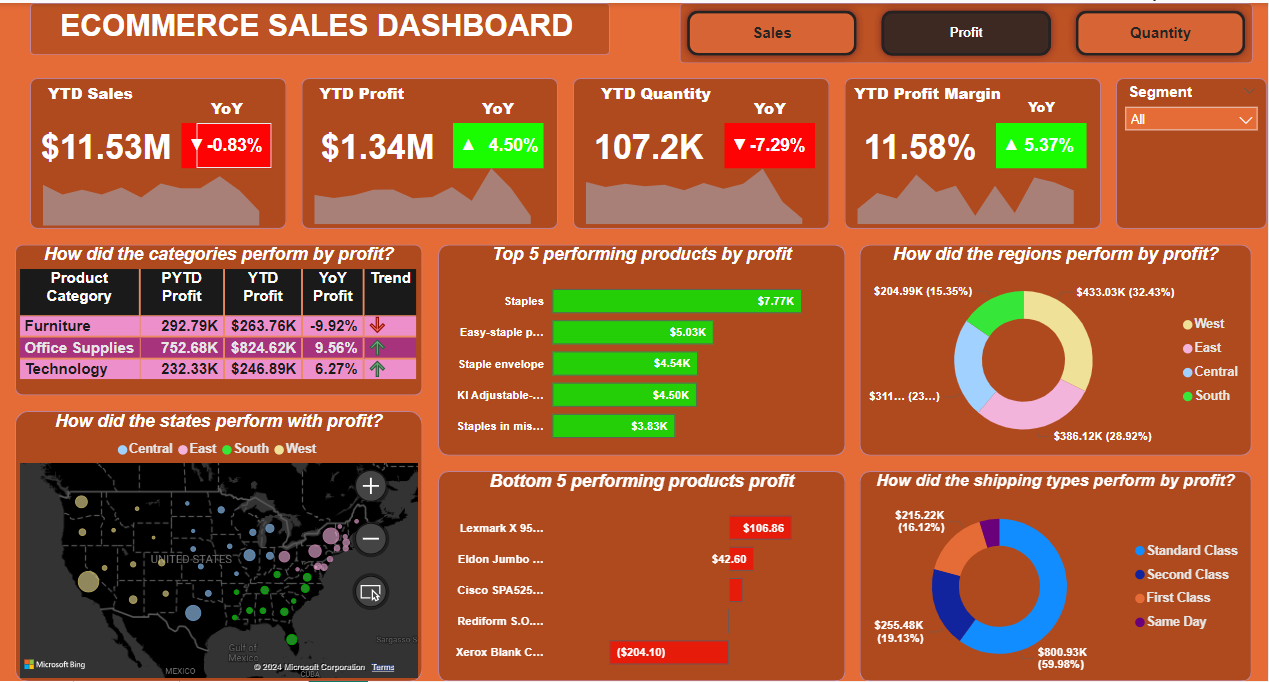

Layout of this report page (visuals, bound fields, positions):
{"tool":"powerbi","page":{"name":"Profit","canvas":[1345,720],"ordinal":1},"visuals":[{"type":"group","id":"g1","title":"Group 2","box":[320,80,272,160],"z":0},{"type":"shape","box":[32,0,615,55],"z":1000},{"type":"textbox","box":[32,0,608,48],"z":2000},{"type":"shape","box":[320,80,272,160],"z":2000,"group":"g4"},{"type":"shape","box":[608,80,272,160],"z":2000,"group":"g2"},{"type":"shape","box":[896,80,272,160],"z":2000,"group":"g3"},{"type":"shape","box":[32,80,272,160],"z":3000},{"type":"areaChart","fields":{"Category":["Date.Month"],"Y":["Sum(ecommerce_data.profit_per_order)"]},"box":[320,160,256,80],"z":4000,"group":"g4"},{"type":"areaChart","fields":{"Category":["Date.Month"],"Y":["Sum(ecommerce_data.order_quantity)"]},"box":[608,160,256,80],"z":4000,"group":"g2"},{"type":"areaChart","fields":{"Category":["Date.Month"],"Y":["ecommerce_data.Gross Profit Margin"]},"box":[896,160,256,80],"z":4000,"group":"g3"},{"type":"shape","box":[16,256,432,160],"z":4000},{"type":"card","fields":{"Values":["ecommerce_data.YTD Sales"]},"box":[16,128,192,48],"z":5000},{"type":"shape","box":[480,128,96,48],"z":5000,"group":"g4"},{"type":"shape","box":[768,128,96,48],"z":5000,"group":"g2"},{"type":"shape","box":[1056,128,96,48],"z":5000,"group":"g3"},{"type":"card","fields":{"Values":["ecommerce_data.YoY Profit"]},"box":[512,128,64,48],"z":6000,"group":"g4"},{"type":"card","fields":{"Values":["ecommerce_data.YoY Qty"]},"box":[784,128,80,48],"z":6000,"group":"g2"},{"type":"card","fields":{"Values":["ecommerce_data.YoY Gross Profit Margin"]},"box":[1072,128,80,48],"z":6000,"group":"g3"},{"type":"areaChart","fields":{"Category":["Date.Month"],"Y":["Sum(ecommerce_data.sales_per_order)"]},"box":[32,160,256,80],"z":6000},{"type":"shape","box":[192,128,96,48],"z":7000,"group":"g5"},{"type":"card","fields":{"Values":["ecommerce_data.YTD Profit"]},"box":[304,128,192,48],"z":7000},{"type":"card","fields":{"Values":["ecommerce_data.Profit Icon"]},"box":[480,128,32,48],"z":7000,"group":"g4"},{"type":"card","fields":{"Values":["ecommerce_data.Qty Icon"]},"box":[768,128,32,48],"z":7000,"group":"g2"},{"type":"card","fields":{"Values":["ecommerce_data.Gross Profit Margin Icon"]},"box":[1056,128,32,48],"z":7000,"group":"g3"},{"type":"textbox","box":[320,80,128,32],"z":8000,"group":"g4"},{"type":"group","id":"g2","title":"Group 1","box":[608,80,272,160],"z":8000},{"type":"textbox","box":[624,80,144,32],"z":8000,"group":"g2"},{"type":"textbox","box":[896,80,176,32],"z":8000,"group":"g3"},{"type":"card","fields":{"Values":["ecommerce_data.YoY Sales"]},"box":[208,128,80,48],"z":8000,"group":"g5"},{"type":"group","id":"g3","title":"Group 1","box":[896,80,272,160],"z":9000},{"type":"card","fields":{"Values":["ecommerce_data.Sales Icon"]},"box":[192,128,32,48],"z":9000,"group":"g5"},{"type":"textbox","box":[32,80,128,32],"z":10000,"group":"g5"},{"type":"group","id":"g4","title":"Group 1","box":[320,80,272,160],"z":10000,"group":"g1"},{"type":"pivotTable","title":"How did the categories perform by profit?","fields":{"Rows":["ecommerce_data.category_name"],"Values":["ecommerce_data.PYTD Profit","ecommerce_data.YTD Profit","ecommerce_data.YoY Profit","ecommerce_data.Profit Icon"]},"box":[16,256,432,160],"z":10000},{"type":"group","id":"g5","title":"Group 3","box":[32,80,256,96],"z":11000},{"type":"group","id":"g6","title":"Group 4","box":[896,96,272,80],"z":12000},{"type":"group","id":"g7","title":"Group 5","box":[608,96,256,80],"z":13000},{"type":"card","fields":{"Values":["ecommerce_data.YTD Quantity"]},"box":[608,128,160,48],"z":13000,"group":"g7"},{"type":"shape","box":[16,432,432,288],"z":14000},{"type":"card","fields":{"Values":["ecommerce_data.YTD Gross Profit Margin"]},"box":[896,128,160,48],"z":15000,"group":"g6"},{"type":"map","title":"How did the states perform with profit?","fields":{"Y":["us_state_long_lat_codes.latitude"],"X":["us_state_long_lat_codes.longitude"],"Size":["ecommerce_data.YTD Profit"],"Series":["ecommerce_data.customer_region"]},"box":[16,432,432,288],"z":15000},{"type":"shape","box":[464,496,432,224],"z":16000},{"type":"textbox","box":[496,96,64,32],"z":16002,"group":"g1"},{"type":"textbox","box":[192,96,96,32],"z":17000,"group":"g5"},{"type":"shape","box":[464,256,432,224],"z":17000},{"type":"textbox","box":[768,96,96,32],"z":17002,"group":"g7"},{"type":"textbox","box":[1040,96,128,48],"z":17003,"group":"g6"},{"type":"barChart","title":"Top 5 performing products by profit","fields":{"Category":["ecommerce_data.product_name"],"Y":["ecommerce_data.YTD Profit"]},"box":[464,256,432,224],"z":18000},{"type":"barChart","title":"Bottom 5 performing products profit","fields":{"Category":["ecommerce_data.product_name"],"Y":["ecommerce_data.YTD Profit"]},"box":[464,496,432,224],"z":19000},{"type":"shape","box":[912,256,416,224],"z":20000},{"type":"shape","box":[912,496,416,224],"z":21000},{"type":"donutChart","title":"How did the regions perform by profit?","fields":{"Category":["ecommerce_data.customer_region"],"Y":["ecommerce_data.YTD Profit"]},"box":[912,256,416,224],"z":22000},{"type":"donutChart","title":"How did the shipping types perform by profit?","fields":{"Category":["ecommerce_data.shipping_type"],"Y":["ecommerce_data.YTD Profit"]},"box":[912,496,416,224],"z":23000},{"type":"shape","box":[1184,80,160,160],"z":24000},{"type":"slicer","fields":{"Values":["ecommerce_data.customer_segment"]},"box":[1184,80,160,160],"z":25000},{"type":"shape","box":[720,0,608,64],"z":26000},{"type":"pageNavigator","box":[720,0,608,64],"z":27000}]}

Visuals, with their boxes in screenshot pixels (x1, y1, x2, y2), scaled from the page's 1345x720 canvas onto the 1269x682 screenshot:
"Group 2" group: rect(302, 76, 559, 227)
shape: rect(30, 0, 610, 52)
textbox: rect(30, 0, 604, 45)
shape: rect(302, 76, 559, 227)
shape: rect(574, 76, 830, 227)
shape: rect(845, 76, 1102, 227)
shape: rect(30, 76, 287, 227)
areaChart - Date.Month x Sum(ecommerce_data.profit_per_order): rect(302, 152, 543, 227)
areaChart - Date.Month x Sum(ecommerce_data.order_quantity): rect(574, 152, 815, 227)
areaChart - Date.Month x ecommerce_data.Gross Profit Margin: rect(845, 152, 1087, 227)
shape: rect(15, 242, 423, 394)
card - ecommerce_data.YTD Sales: rect(15, 121, 196, 167)
shape: rect(453, 121, 543, 167)
shape: rect(725, 121, 815, 167)
shape: rect(996, 121, 1087, 167)
card - ecommerce_data.YoY Profit: rect(483, 121, 543, 167)
card - ecommerce_data.YoY Qty: rect(740, 121, 815, 167)
card - ecommerce_data.YoY Gross Profit Margin: rect(1011, 121, 1087, 167)
areaChart - Date.Month x Sum(ecommerce_data.sales_per_order): rect(30, 152, 272, 227)
shape: rect(181, 121, 272, 167)
card - ecommerce_data.YTD Profit: rect(287, 121, 468, 167)
card - ecommerce_data.Profit Icon: rect(453, 121, 483, 167)
card - ecommerce_data.Qty Icon: rect(725, 121, 755, 167)
card - ecommerce_data.Gross Profit Margin Icon: rect(996, 121, 1027, 167)
textbox: rect(302, 76, 423, 106)
"Group 1" group: rect(574, 76, 830, 227)
textbox: rect(589, 76, 725, 106)
textbox: rect(845, 76, 1011, 106)
card - ecommerce_data.YoY Sales: rect(196, 121, 272, 167)
"Group 1" group: rect(845, 76, 1102, 227)
card - ecommerce_data.Sales Icon: rect(181, 121, 211, 167)
textbox: rect(30, 76, 151, 106)
"Group 1" group: rect(302, 76, 559, 227)
"How did the categories perform by profit?" pivotTable: rect(15, 242, 423, 394)
"Group 3" group: rect(30, 76, 272, 167)
"Group 4" group: rect(845, 91, 1102, 167)
"Group 5" group: rect(574, 91, 815, 167)
card - ecommerce_data.YTD Quantity: rect(574, 121, 725, 167)
shape: rect(15, 409, 423, 681)
card - ecommerce_data.YTD Gross Profit Margin: rect(845, 121, 996, 167)
"How did the states perform with profit?" map: rect(15, 409, 423, 681)
shape: rect(438, 470, 845, 681)
textbox: rect(468, 91, 528, 121)
textbox: rect(181, 91, 272, 121)
shape: rect(438, 242, 845, 455)
textbox: rect(725, 91, 815, 121)
textbox: rect(981, 91, 1102, 136)
"Top 5 performing products by profit" barChart: rect(438, 242, 845, 455)
"Bottom 5 performing products profit" barChart: rect(438, 470, 845, 681)
shape: rect(860, 242, 1253, 455)
shape: rect(860, 470, 1253, 681)
"How did the regions perform by profit?" donutChart: rect(860, 242, 1253, 455)
"How did the shipping types perform by profit?" donutChart: rect(860, 470, 1253, 681)
shape: rect(1117, 76, 1268, 227)
slicer - ecommerce_data.customer_segment: rect(1117, 76, 1268, 227)
shape: rect(679, 0, 1253, 61)
pageNavigator: rect(679, 0, 1253, 61)
